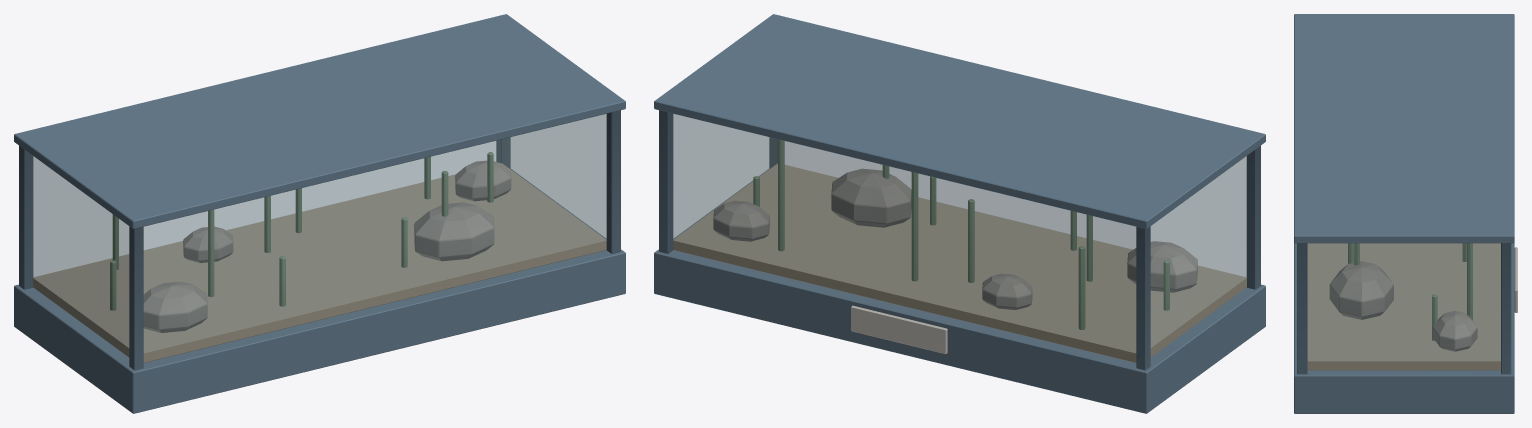
Rendered from museum_tank_big.glb.
3 views of the same model, side by side, from view 1: azimuth 30°, elevation 25°; view 2: azimuth 150°, elevation 25°; view 3: azimuth 270°, elevation 25° (orthographic). The views are drawn at different scales.
Size of the model in its own units: 6.2 by 2.32 by 2.64.
